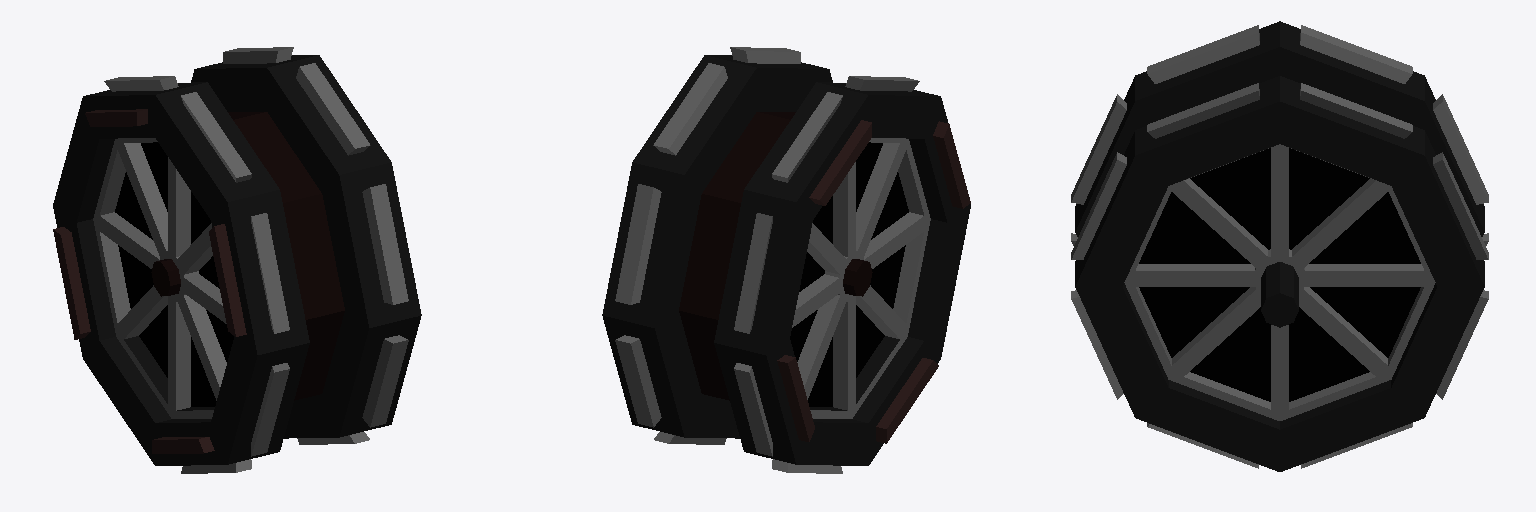
File: Narushat-A_Sprocket.obj
The picture shows the model from 3 angles: view 1: azimuth 30°, elevation 25°; view 2: azimuth 150°, elevation 25°; view 3: azimuth 270°, elevation 25°; orthographic projection.
Parts seen in each view (by area): view 1: Cylinder.006_Cylinder.000; view 2: Cylinder.006_Cylinder.000; view 3: Cylinder.006_Cylinder.000.
Boxes of the visible parts, <box> form: Cylinder.006_Cylinder.000: <box>53,47,421,473</box>; Cylinder.006_Cylinder.000: <box>602,47,970,473</box>; Cylinder.006_Cylinder.000: <box>1071,21,1488,471</box>.
Size of the model in its own units: 0.1625 by 0.2635 by 0.2635.